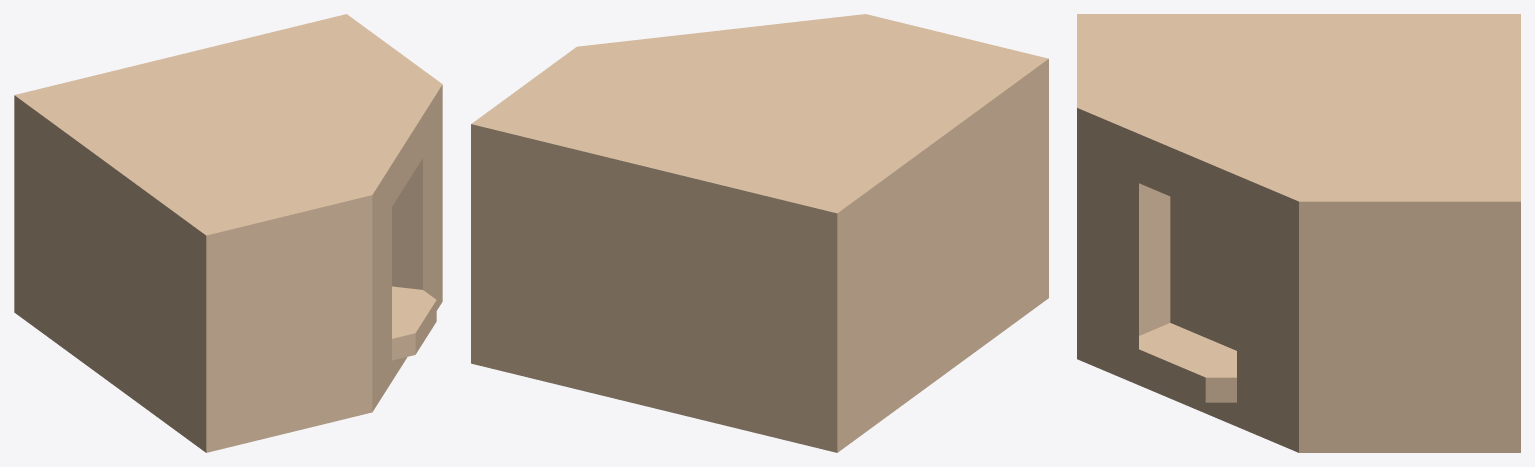
The model's file is building-corner-window-sill.obj.
3 renders of one model, left to right at view 1: azimuth 30°, elevation 25°; view 2: azimuth 150°, elevation 25°; view 3: azimuth 270°, elevation 25°, orthographic. The views are drawn at different scales.
Size of the model in its own units: 1 by 0.625 by 1.
